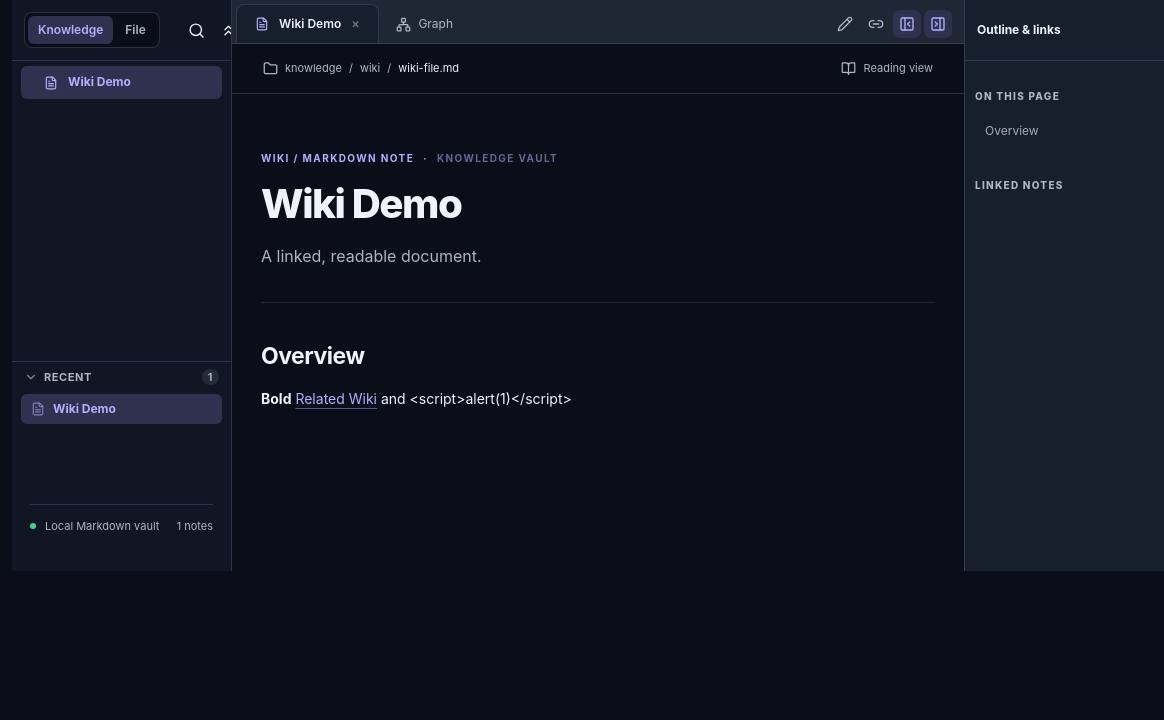
defaults to Knowledge and switches its single displayed tree using the source tabs
expect the text "raw-file" is not shown: met
Click the tab "File".
click(136, 30)  # box [115, 16, 156, 44]
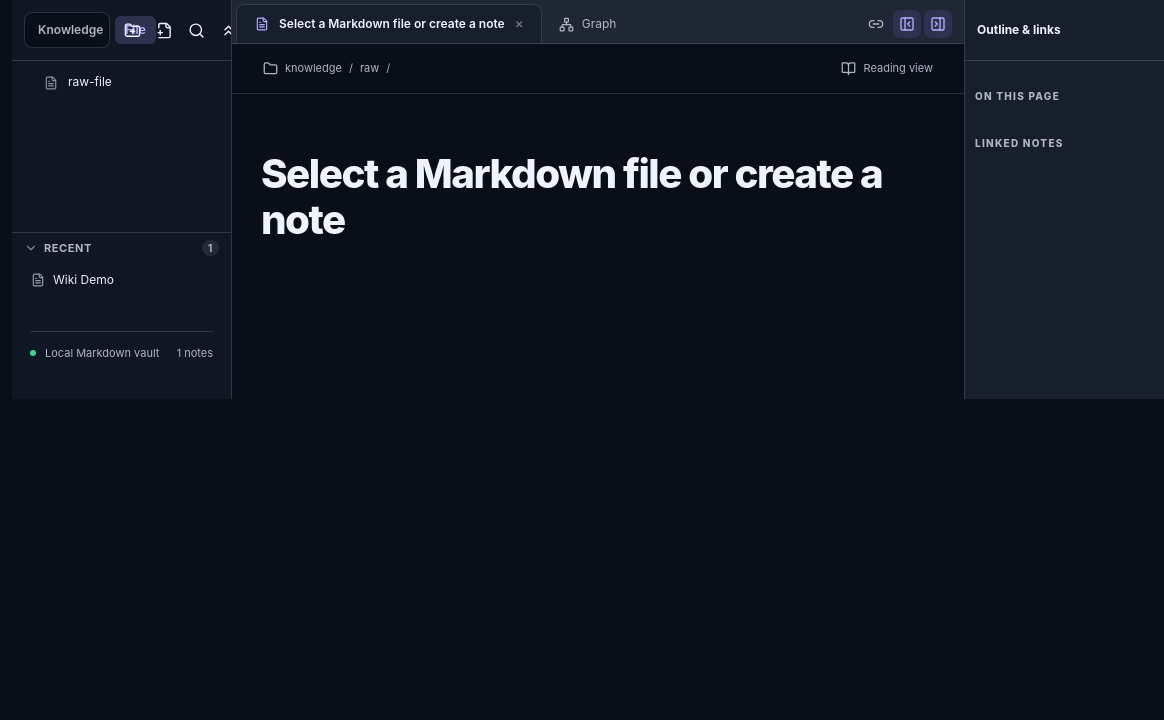
expect the element with class "tree-holder" reads "raw-file": met, box [21, 66, 222, 99]
expect the text with class "tree-holder" no longer shows "wiki-file": met
Click the tab "Knowledge".
click(71, 30)  # box [28, 16, 113, 44]
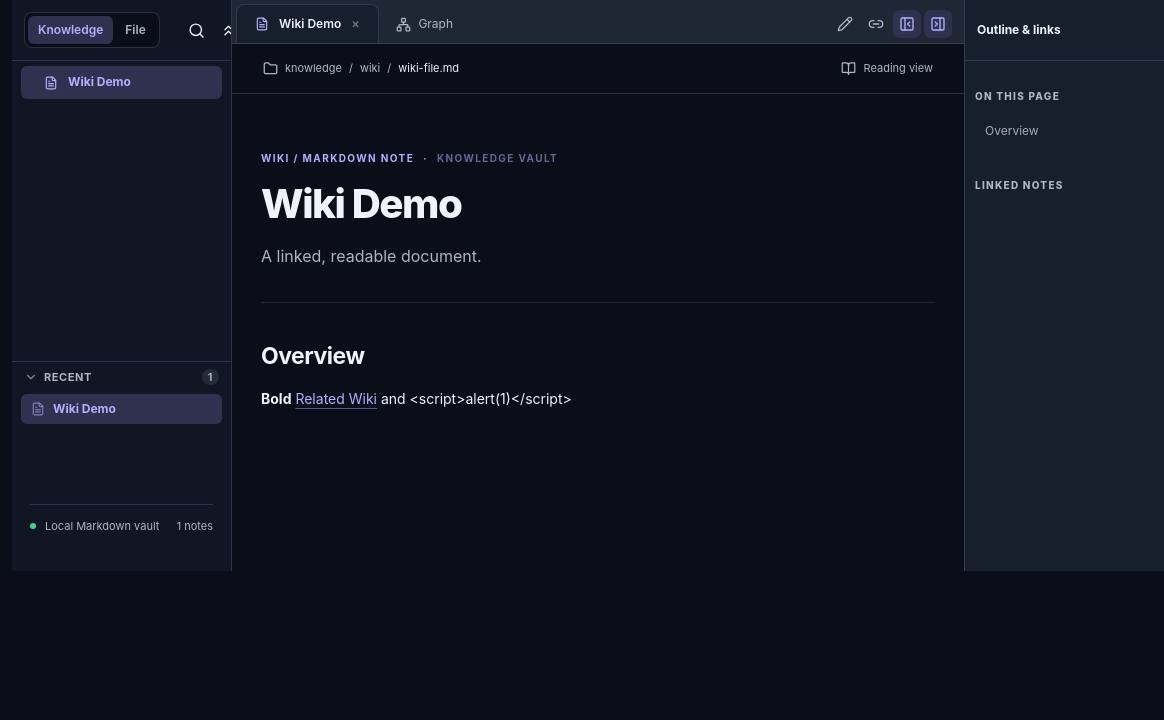
expect the element with class "tree-holder" reads "Wiki Demo": met, box [21, 66, 222, 99]
expect the list item with class "tree-holder" no longer shows "raw-file": met
